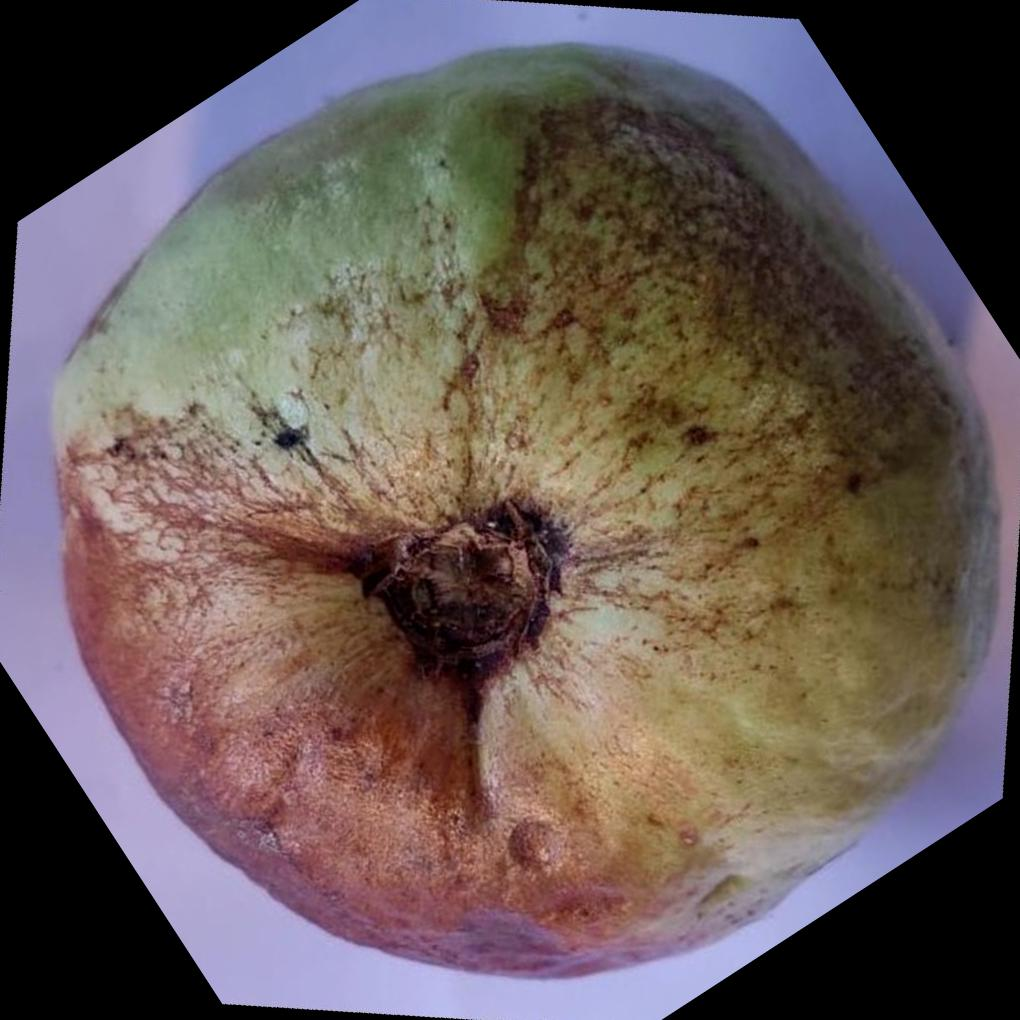FreshOrange: (49, 42, 1003, 986)
